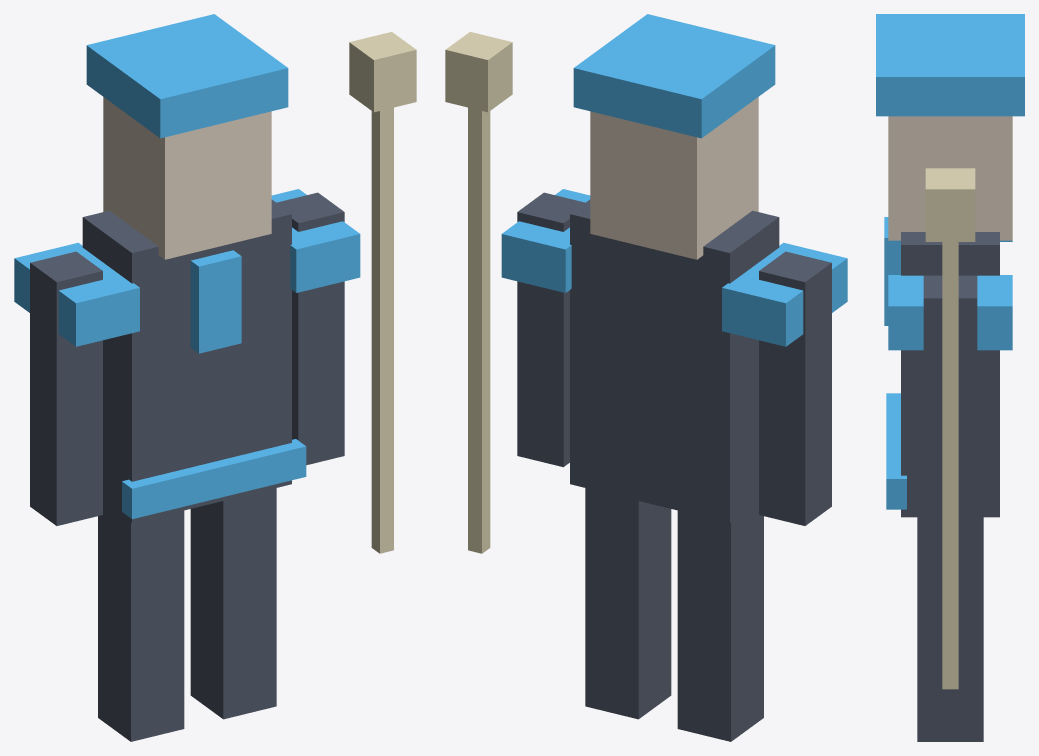
Rendered from 12_vela_deepwell_watcher_under_power.glb.
The picture shows the model from 3 angles, left to right: view 1: azimuth 30°, elevation 25°; view 2: azimuth 150°, elevation 25°; view 3: azimuth 270°, elevation 25°; orthographic projection.
Visible parts, largest first — view 1: Vela Deepwell, Watcher under Power; view 2: Vela Deepwell, Watcher under Power; view 3: Vela Deepwell, Watcher under Power.
Part boxes in pixels (box(x1,y1,x2,y2)): Vela Deepwell, Watcher under Power: box(14, 14, 416, 741); Vela Deepwell, Watcher under Power: box(445, 14, 847, 741); Vela Deepwell, Watcher under Power: box(876, 14, 1024, 741).
Size of the model in its own units: 0.9719 by 1.69 by 0.3447.
